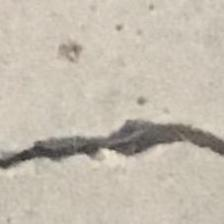Crack: (0, 116, 224, 187)
